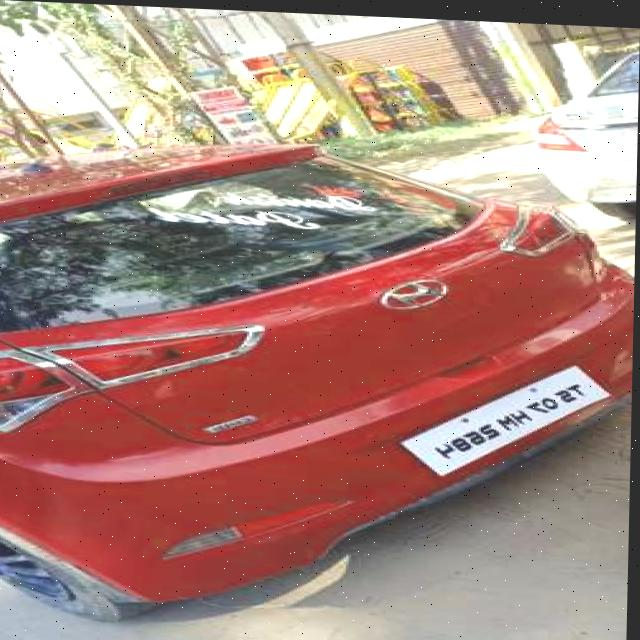plate: (398, 352, 617, 481)
